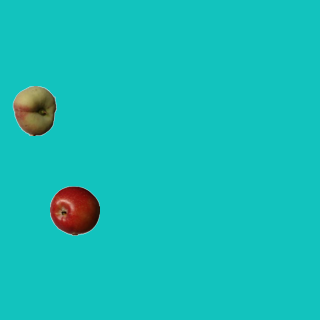Apple Braeburn: (49, 185, 99, 235)
Peach Flat: (9, 85, 59, 135)
